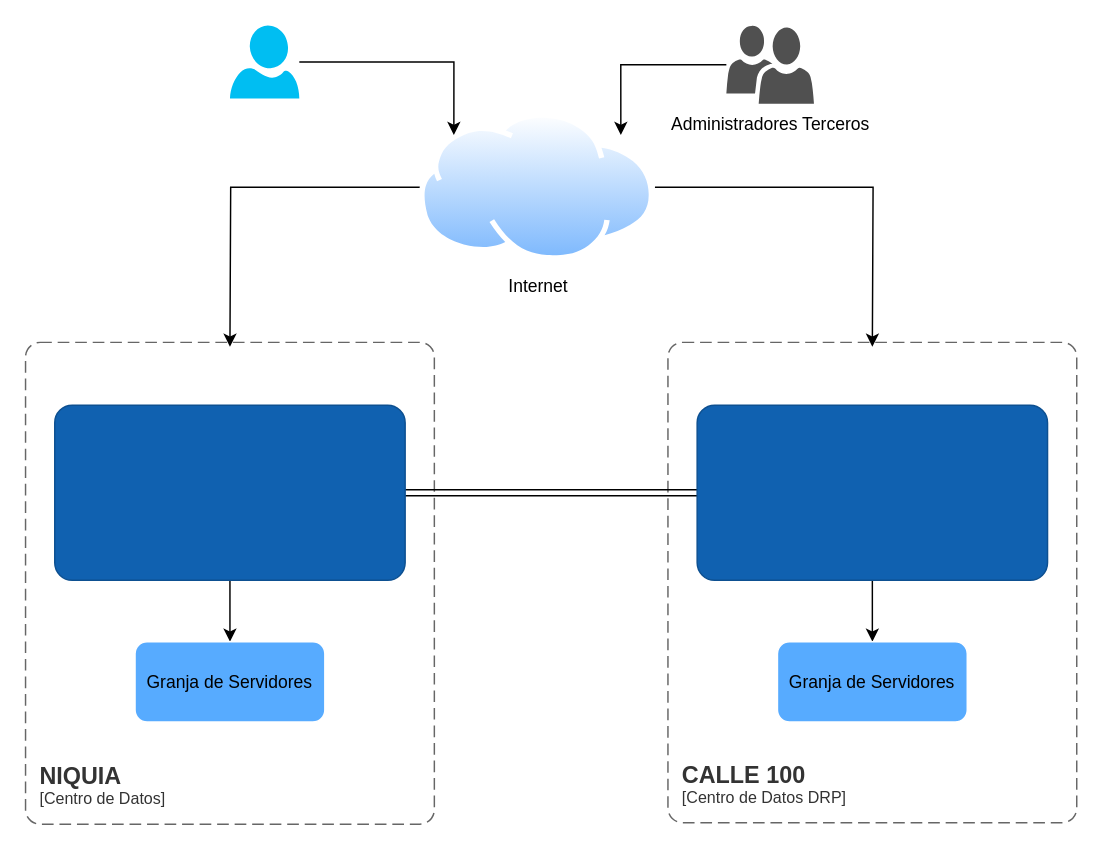
The diagram is 1102 pixels wide and 850 high, and some of its shapes have lost their labels. Each missing label, with the centre of its shape:
Administradores Tuya: (x=264, y=61)
CyberArk [PAM System] Vault, PSM, CPM/PVWA, Broker, Alero: (x=229, y=492)
CyberArk DRP [PAM System] Vault, PSM, CPM/PVWA, Broker, Alero: (x=872, y=492)
